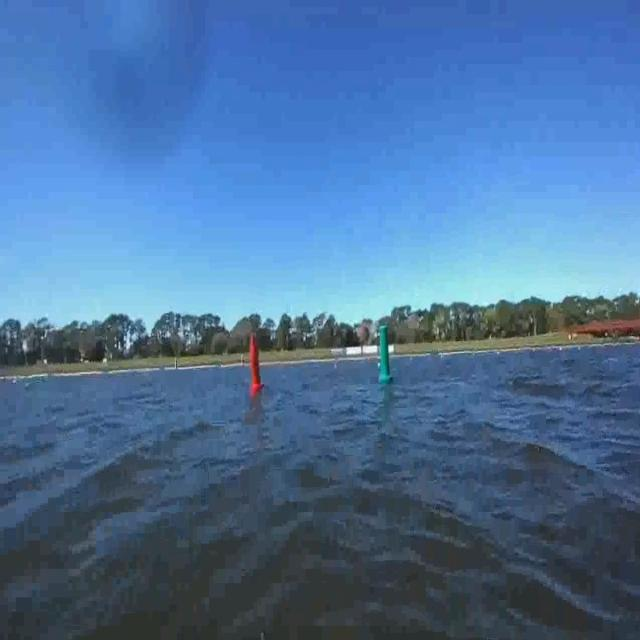green-column-buoy: (377, 325, 394, 384)
red-column-buoy: (248, 334, 263, 392)
